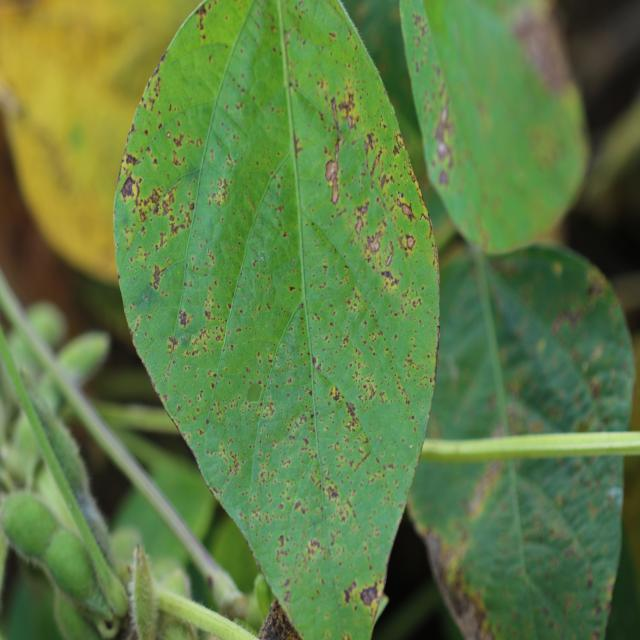Bacterial_Blight: (329, 86, 367, 150), (151, 178, 189, 225), (346, 572, 383, 617), (322, 149, 345, 206), (385, 192, 426, 223), (118, 170, 142, 203), (364, 230, 386, 258), (397, 230, 416, 261), (356, 199, 373, 227)
Soybean: (111, 0, 441, 640)
